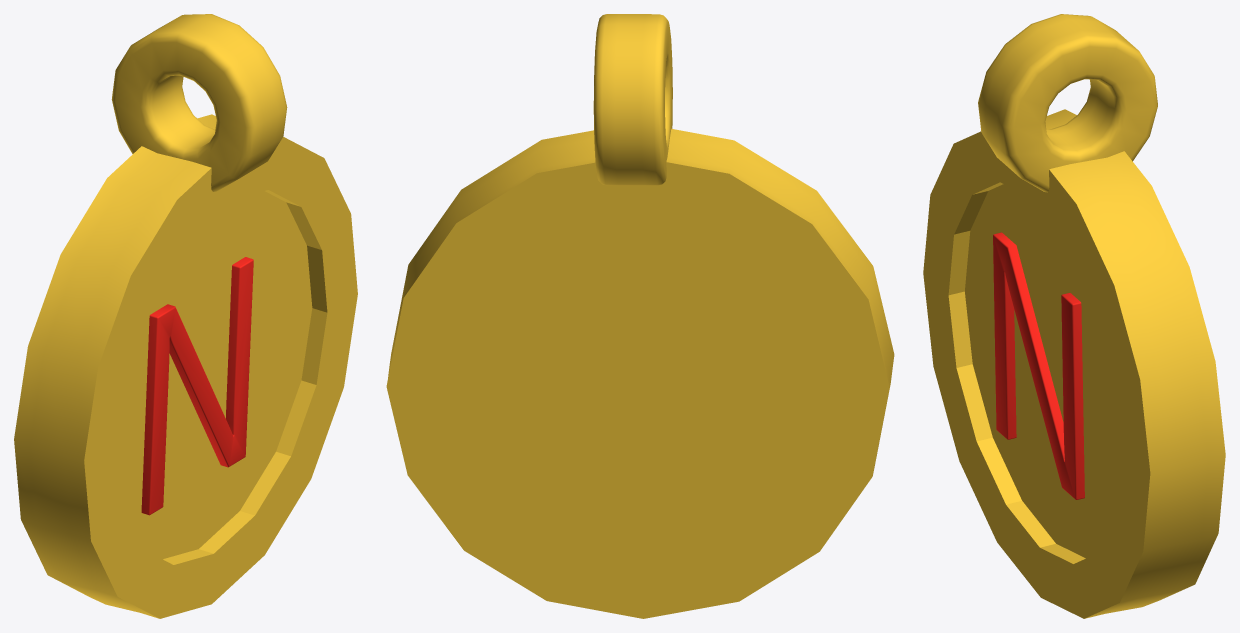
3 views of the same model, side by side, from view 1: azimuth 30°, elevation 25°; view 2: azimuth 150°, elevation 25°; view 3: azimuth 270°, elevation 25° (orthographic).
Parts seen in each view (by area): view 1: Cylinder.003, Tube.003, N_2.003; view 2: Cylinder.003, Tube.003; view 3: Cylinder.003, Tube.003, N_2.003.
Boxes of the visible parts, x1,y1,x2,y2 form: Cylinder.003: (14,114,357,618); Tube.003: (111,14,287,191); N_2.003: (141,257,253,515); Cylinder.003: (386,128,894,618); Tube.003: (593,14,672,185); Cylinder.003: (923,109,1225,618); Tube.003: (978,14,1157,192); N_2.003: (993,232,1084,499).
Size of the model in its own units: 16.88 by 10.48 by 21.94.
